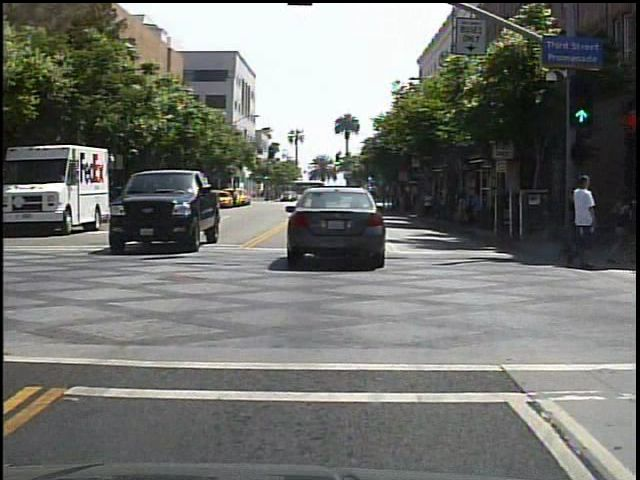person: (564, 164, 604, 271), (574, 173, 606, 265), (418, 189, 437, 223)
